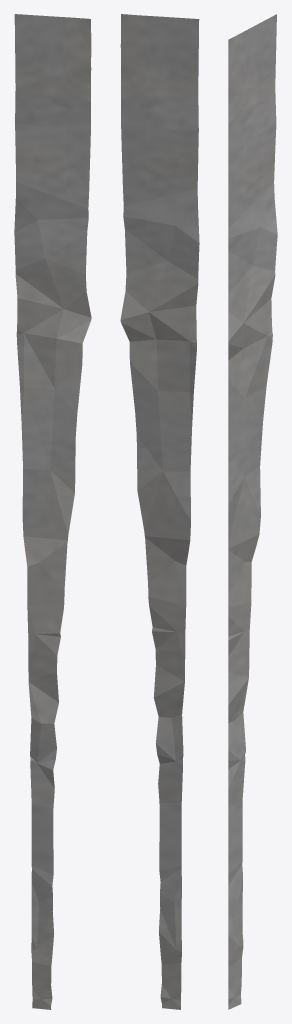
3 views of the same model, side by side, from view 1: azimuth 30°, elevation 25°; view 2: azimuth 210°, elevation 25°; view 3: azimuth 270°, elevation 25° (orthographic). The views are drawn at different scales.
Size of the model in its own units: 0.0471 by 0.8374 by 0.0379.
Materials: 1 (1 with a texture image).
